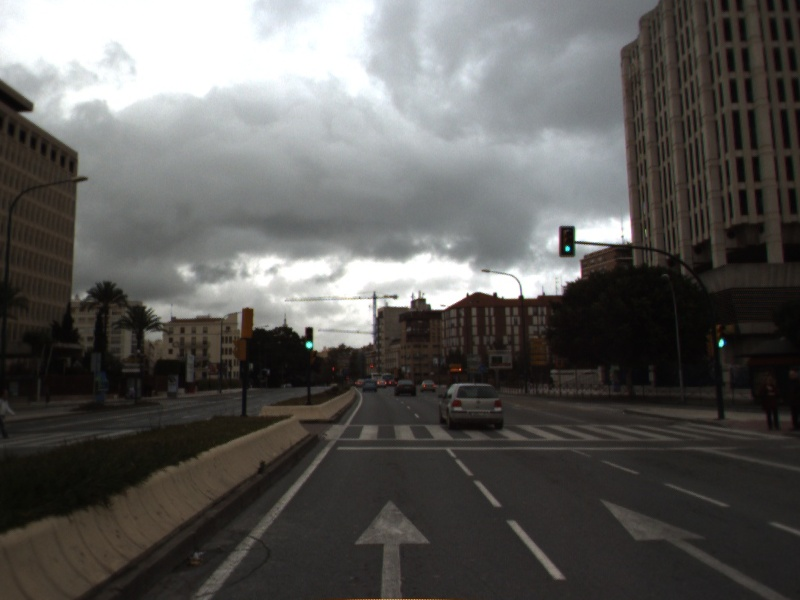STRAIGHT: (596, 495, 789, 600), (350, 495, 435, 600)
